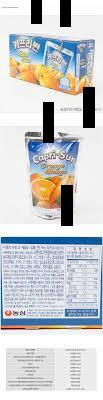cafrisun: (19, 126, 84, 228)
